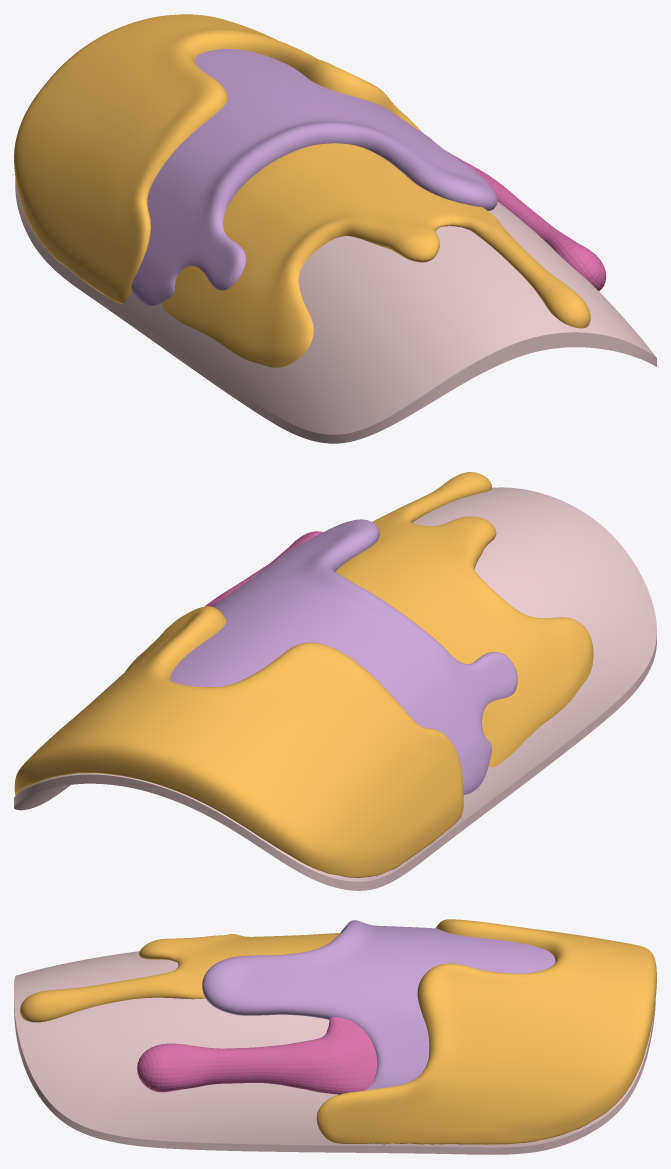
File: MF_nai_you.obj
The picture shows the model from 3 angles, top to bottom: view 1: azimuth 30°, elevation 25°; view 2: azimuth 150°, elevation 25°; view 3: azimuth 270°, elevation 25°; orthographic projection. The views are drawn at different scales.
Parts seen in each view (by area): view 1: MF_nai_you; view 2: MF_nai_you; view 3: MF_nai_you.
Boxes of the visible parts, x1,y1,x2,y2 form: MF_nai_you: [14, 14, 656, 443]; MF_nai_you: [14, 472, 656, 890]; MF_nai_you: [14, 919, 656, 1154].
Size of the model in its own units: 12.07 by 6.22 by 24.05.
